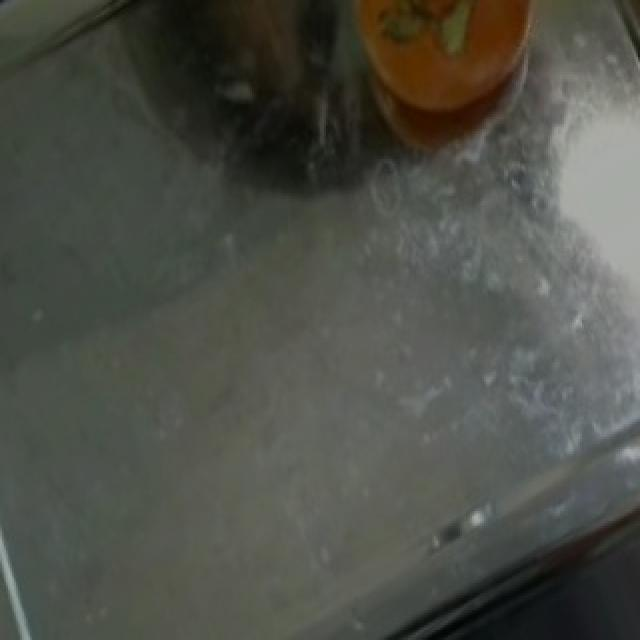Fruit: (330, 0, 570, 146), (2, 0, 170, 79)
